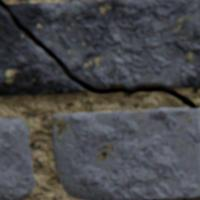brick: (53, 108, 199, 199), (0, 118, 35, 199)
broken_brick: (8, 0, 199, 89), (0, 8, 88, 96)
crack: (0, 0, 198, 108)
